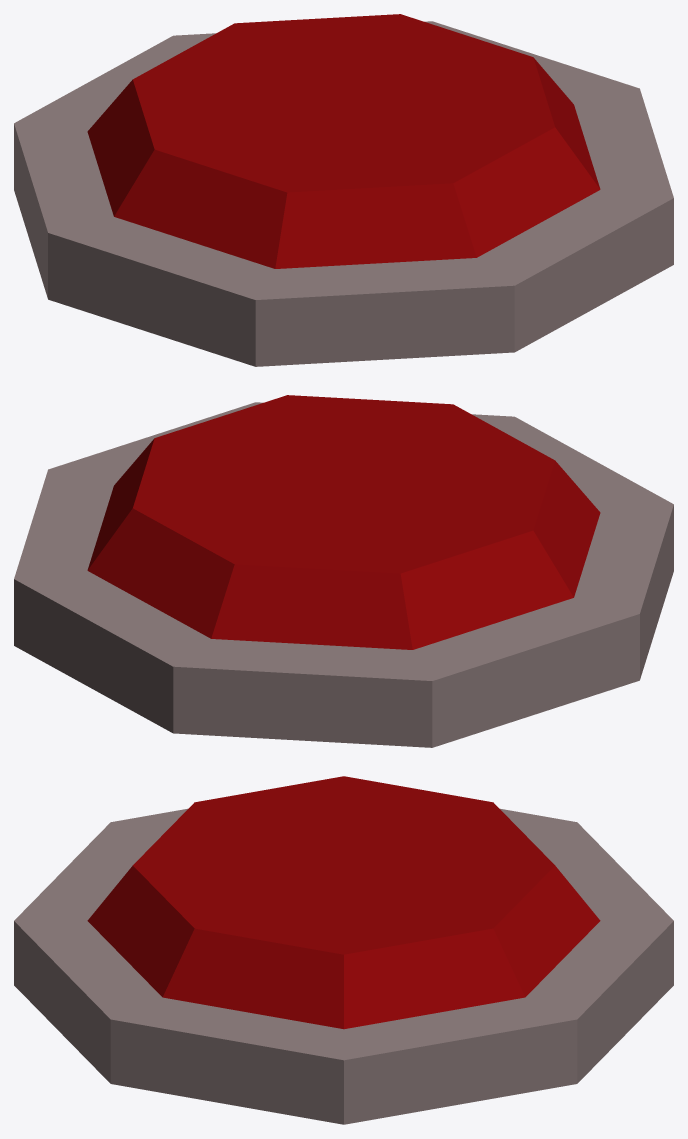
Rendered from WallButton.glb.
3 views of the same model, one above another, from view 1: azimuth 30°, elevation 25°; view 2: azimuth 150°, elevation 25°; view 3: azimuth 270°, elevation 25° (orthographic). The views are drawn at different scales.
Parts seen in each view (by area): view 1: Button, Rim; view 2: Button, Rim; view 3: Button, Rim.
Boxes of the visible parts, <box> form: Button: <box>87,14,600,268</box>; Rim: <box>14,21,673,366</box>; Button: <box>87,395,600,649</box>; Rim: <box>14,402,673,747</box>; Button: <box>87,776,600,1029</box>; Rim: <box>14,808,673,1124</box>.
Size of what is drawn, in the model's own units: 1 by 0.2004 by 1.
